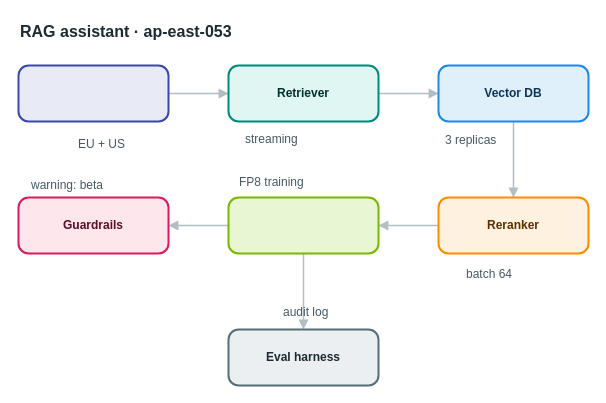
This 606x403 diagram has some shape labels left out. The shapes that lost their labels are listed below. From the top down, each one's box as (x1, y1, x2, y2) in pixels, then its label:
(17, 64, 169, 122): User
(227, 196, 379, 254): Nemotron
